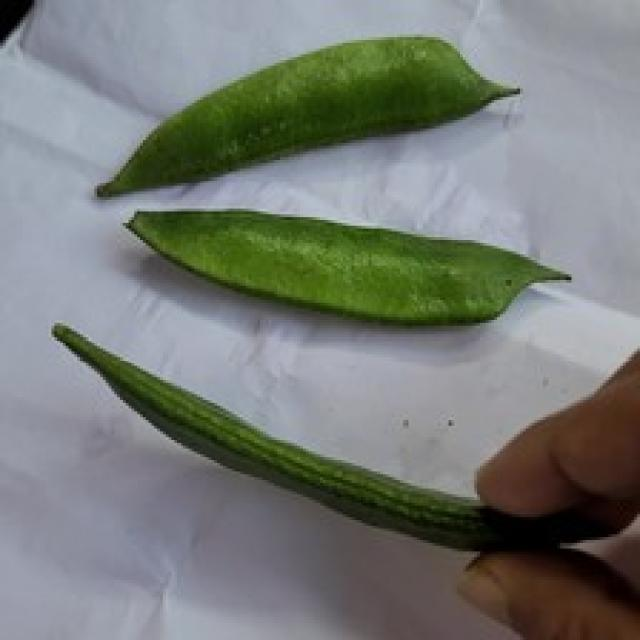Bean: (48, 317, 623, 552), (91, 32, 520, 197), (120, 203, 571, 326)
